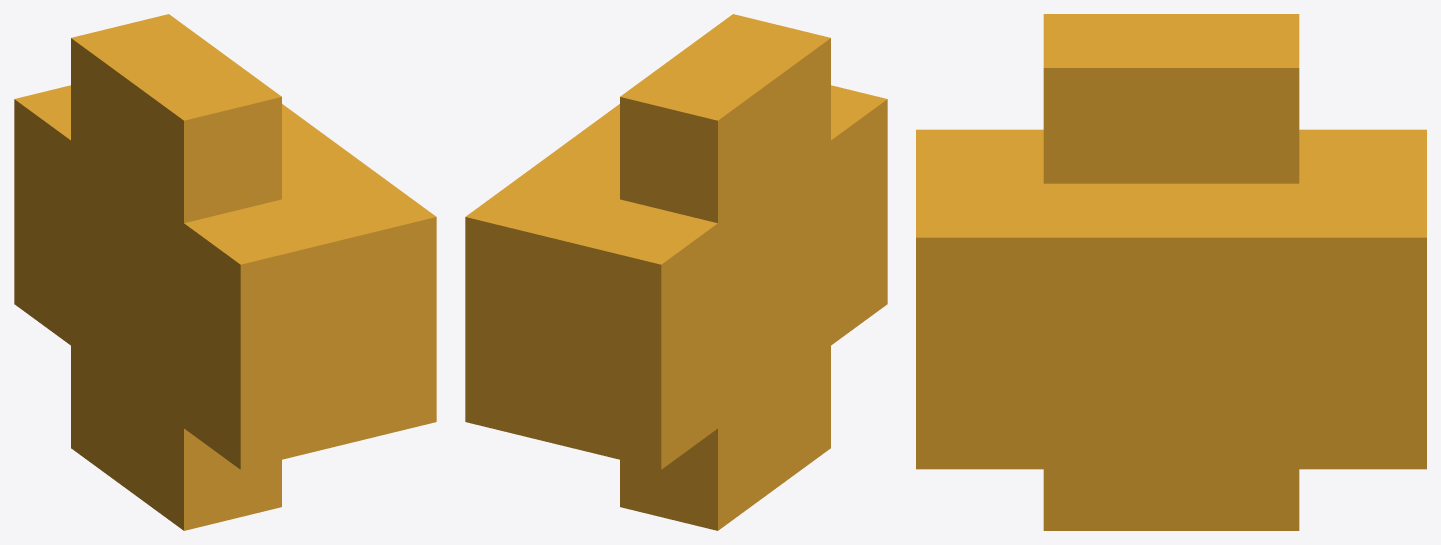
File: duckling__wing_r.glb
3 renders of one model, left to right at view 1: azimuth 30°, elevation 25°; view 2: azimuth 150°, elevation 25°; view 3: azimuth 270°, elevation 25°, orthographic. The views are drawn at different scales.
Parts seen in each view (by area): view 1: duckling__wing_r; view 2: duckling__wing_r; view 3: duckling__wing_r.
Boxes of the visible parts, bbox=[...] form: duckling__wing_r: bbox=[14, 14, 436, 530]; duckling__wing_r: bbox=[465, 14, 887, 530]; duckling__wing_r: bbox=[916, 14, 1426, 530].
Bounding box in the file's own units: 0.2 × 0.4 × 0.4.
Materials: 1 (1 with a texture image).
